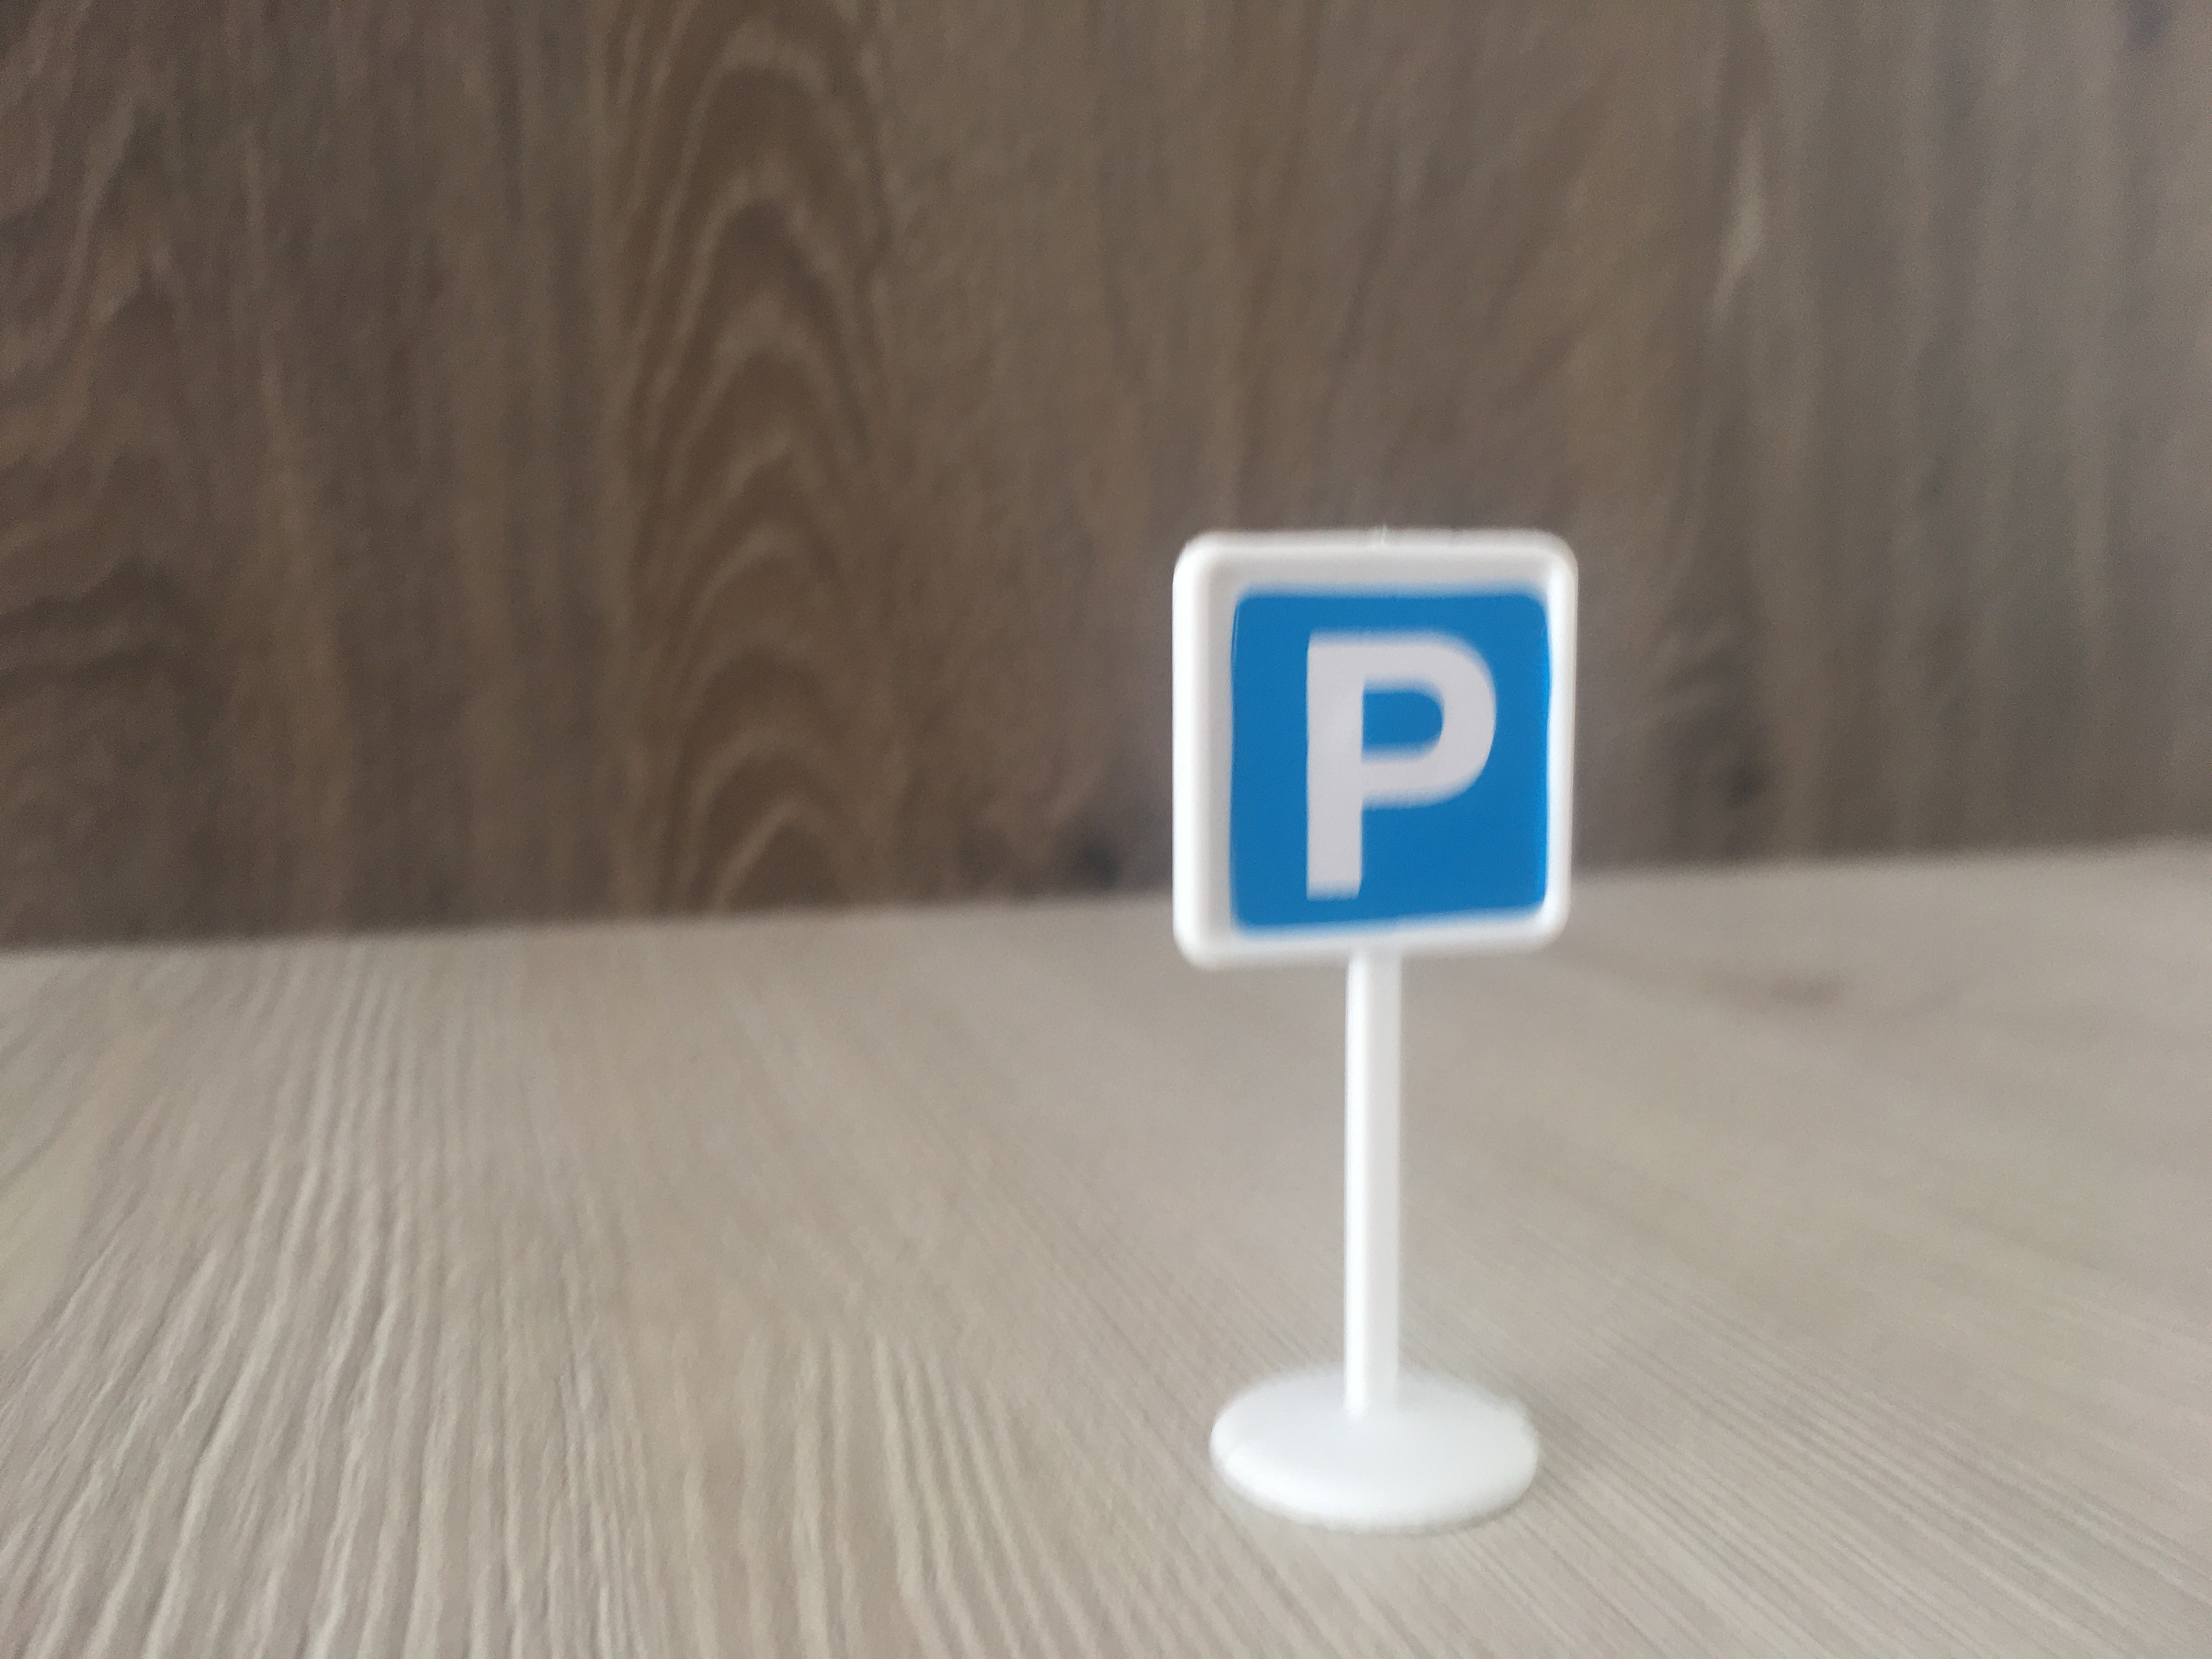parking: (1163, 533, 1578, 979)
